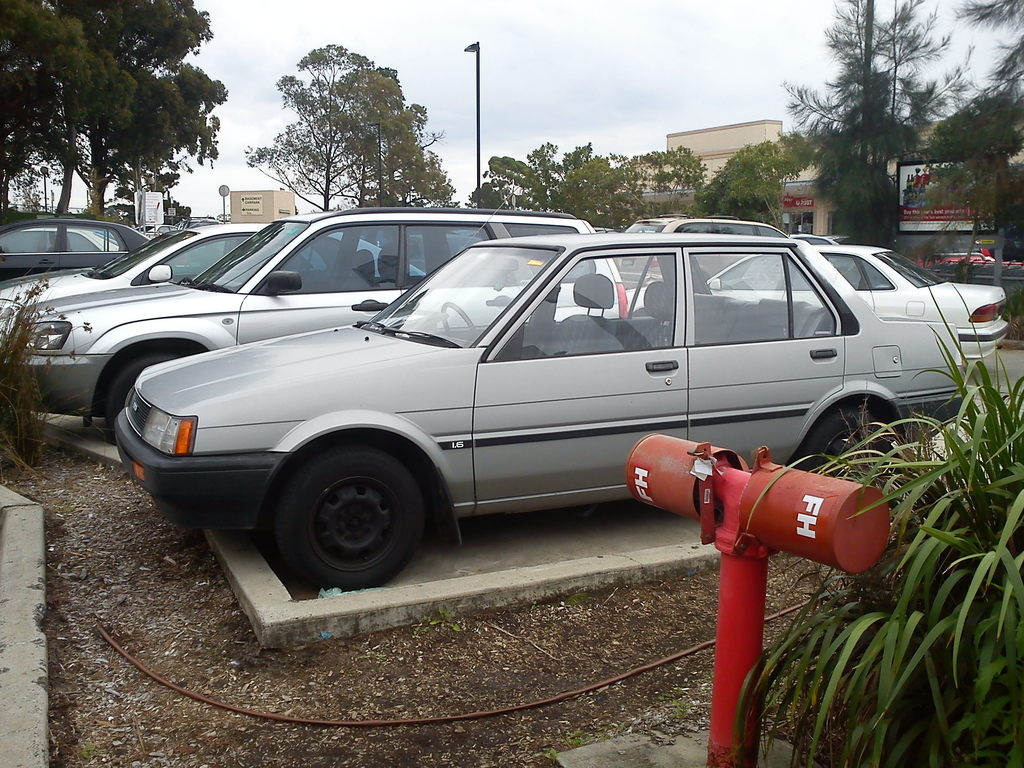Car: (0, 188, 1023, 583)
